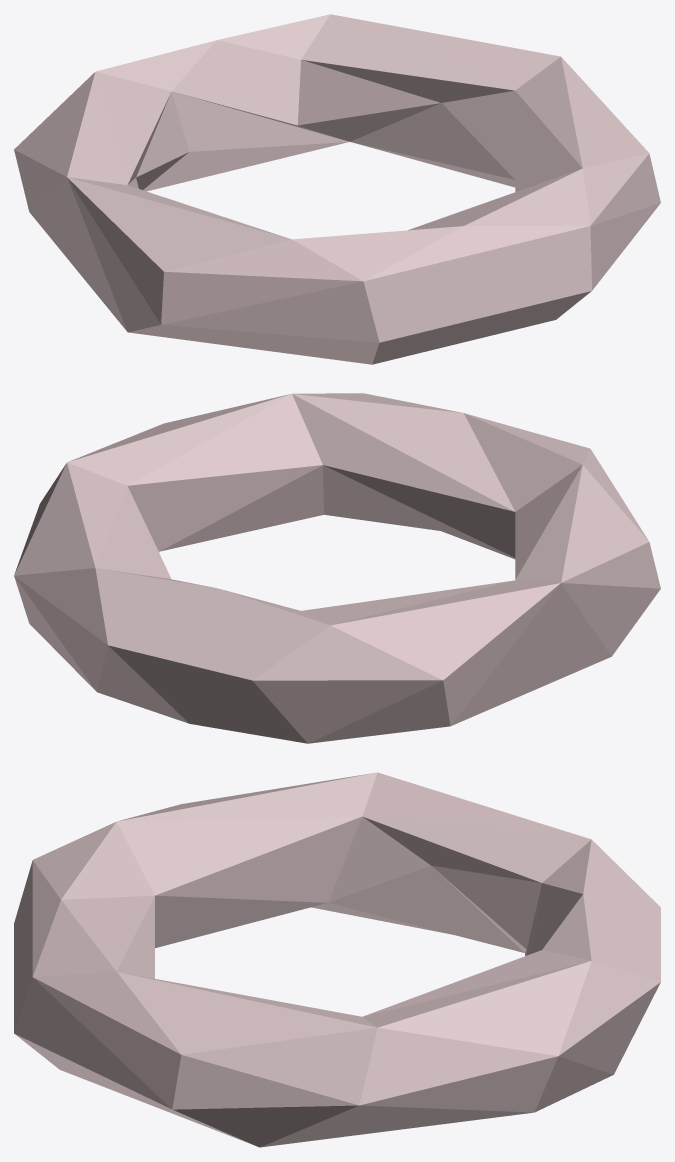
File: RingEfx.fbx
The picture shows the model from 3 angles, top to bottom: view 1: azimuth 30°, elevation 25°; view 2: azimuth 150°, elevation 25°; view 3: azimuth 270°, elevation 25°; orthographic projection. The views are drawn at different scales.
Parts seen in each view (by area): view 1: Torus; view 2: Torus; view 3: Torus.
Part boxes in pixels (bbox=[...]): Torus: bbox=[14, 14, 660, 364]; Torus: bbox=[14, 393, 660, 743]; Torus: bbox=[14, 772, 660, 1147].
Size of the model in its own units: 2.4 by 0.5232 by 2.39.
